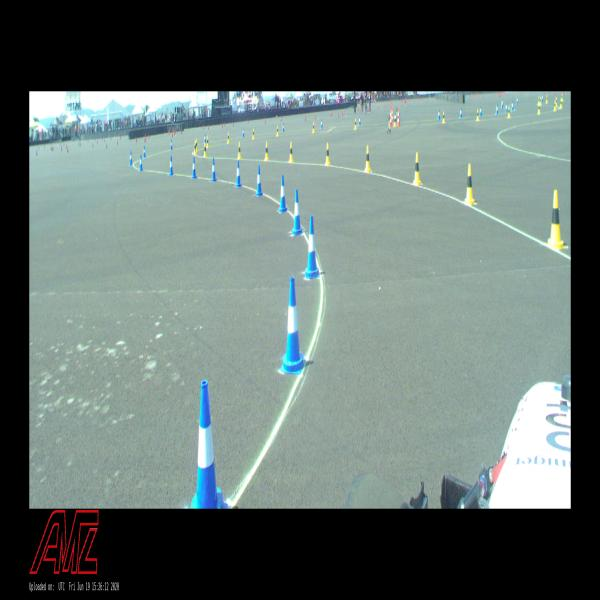blue_cone: (191, 381, 228, 509), (280, 277, 306, 374), (305, 216, 320, 278), (292, 189, 302, 236), (278, 174, 288, 213), (255, 165, 262, 196), (235, 161, 241, 188), (211, 158, 216, 181), (169, 156, 174, 175), (192, 157, 196, 178), (139, 155, 143, 171), (129, 151, 133, 165), (459, 108, 462, 119), (479, 106, 482, 116), (394, 112, 397, 122), (505, 103, 508, 112), (511, 101, 514, 110), (320, 120, 323, 128), (144, 146, 146, 158), (438, 110, 440, 120), (496, 104, 498, 114), (170, 140, 172, 150), (282, 122, 284, 132), (204, 133, 206, 143), (242, 128, 244, 137), (358, 116, 360, 125), (501, 99, 503, 108), (516, 97, 518, 104)
large_orange_cone: (397, 109, 400, 126), (390, 109, 392, 127), (391, 107, 393, 124), (398, 107, 400, 124)
yellow_cone: (548, 190, 566, 249), (464, 164, 474, 204), (413, 152, 421, 186), (365, 146, 371, 172), (325, 143, 330, 165), (264, 142, 269, 160), (237, 142, 242, 159), (289, 142, 293, 162), (194, 141, 197, 154), (204, 144, 207, 157), (476, 109, 479, 121), (227, 132, 230, 144), (442, 111, 445, 122), (252, 128, 255, 139), (312, 122, 315, 133), (206, 136, 209, 147), (276, 126, 279, 136), (354, 119, 357, 129), (393, 116, 396, 126), (196, 139, 198, 152), (508, 106, 510, 118), (538, 104, 540, 114), (554, 100, 556, 110), (556, 97, 558, 106), (546, 95, 548, 104), (560, 99, 562, 108), (538, 97, 540, 104), (562, 94, 563, 101), (540, 97, 541, 104)
